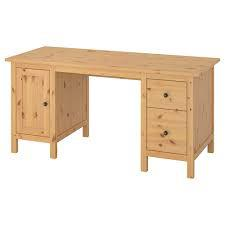desk: (0, 26, 220, 177)
